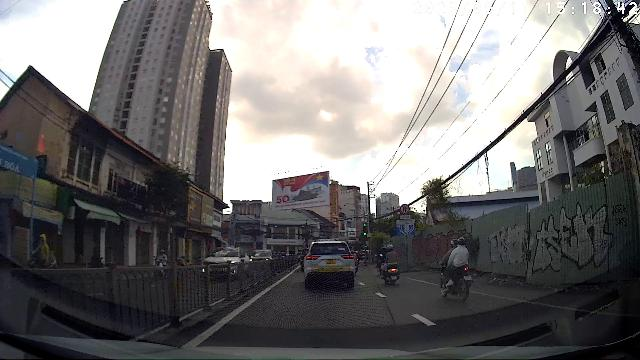124b-cam-oto-quay-dau-xe: (400, 204, 410, 214)
